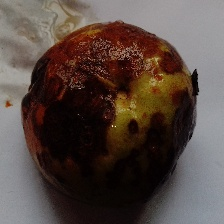guava: (49, 13, 190, 204)
